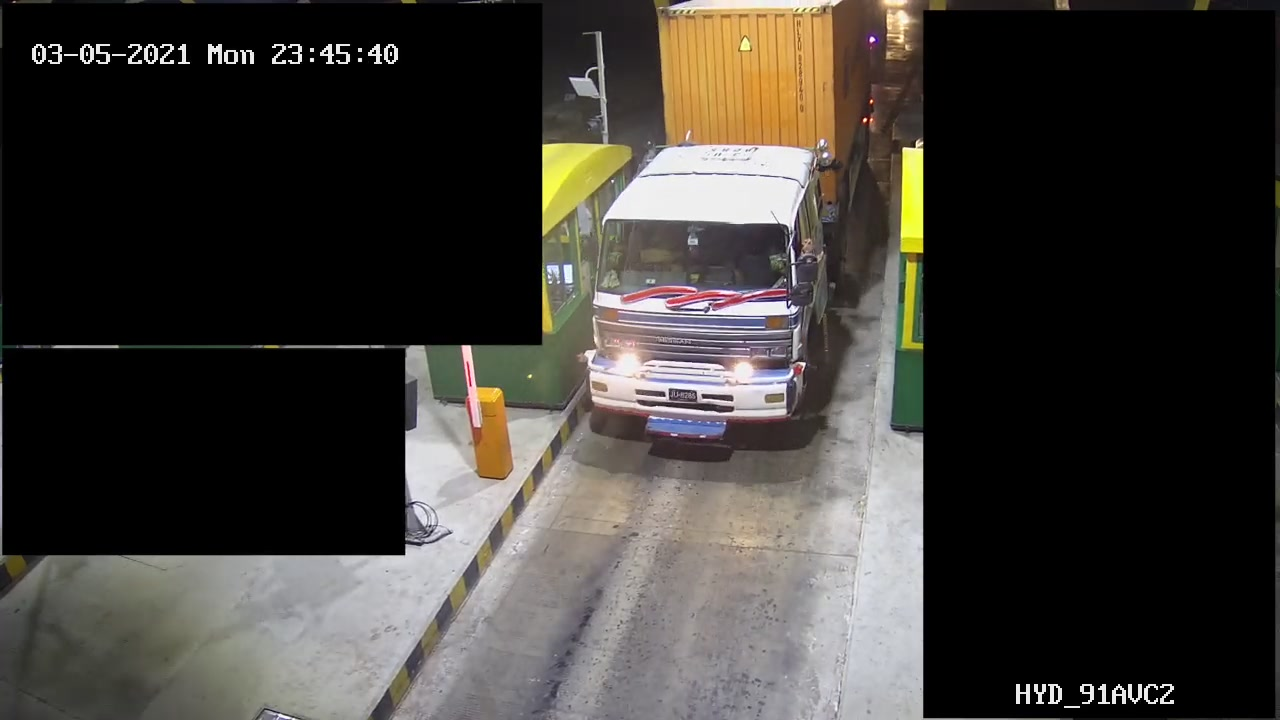F6: (581, 1, 897, 461)
